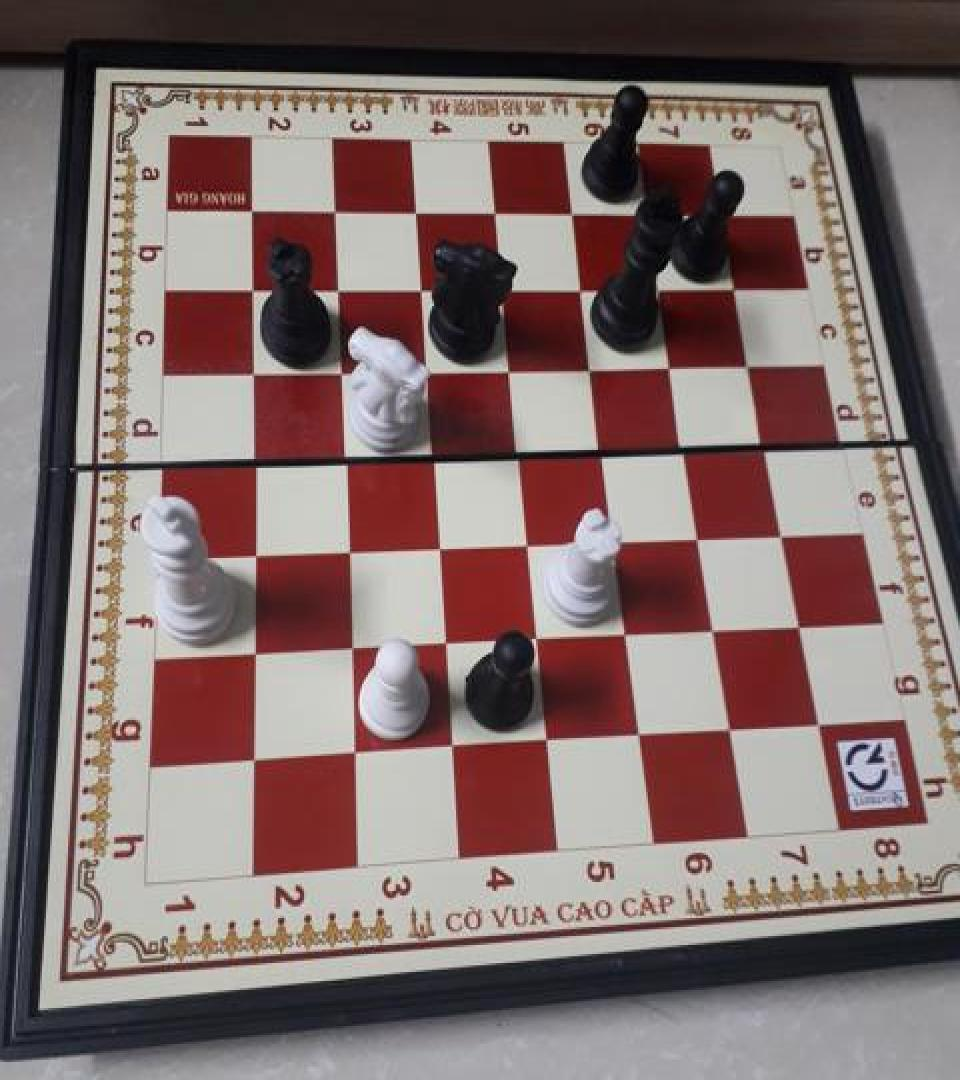xcorner: (696, 608, 728, 645), (518, 617, 550, 654), (336, 732, 368, 769), (398, 196, 430, 232), (318, 196, 350, 232), (236, 196, 268, 232), (641, 268, 673, 304), (563, 269, 595, 305), (484, 269, 516, 305), (403, 270, 435, 306), (320, 271, 352, 307), (236, 272, 268, 308), (732, 343, 764, 379), (653, 346, 685, 382), (573, 346, 605, 382), (491, 348, 523, 384), (408, 350, 440, 386), (323, 351, 355, 387), (236, 353, 268, 389), (748, 424, 780, 460), (667, 428, 699, 464), (584, 430, 616, 466), (500, 432, 532, 468), (414, 434, 446, 470), (326, 436, 358, 472), (236, 440, 268, 476), (765, 511, 797, 547), (681, 514, 713, 550), (596, 518, 628, 554), (509, 522, 541, 558), (420, 526, 452, 562), (329, 529, 361, 565), (236, 532, 268, 568), (783, 604, 815, 640), (608, 613, 640, 649), (426, 622, 458, 658), (332, 626, 364, 662), (236, 632, 268, 668), (802, 703, 834, 739), (713, 709, 745, 745), (622, 714, 654, 750), (528, 720, 560, 756), (433, 727, 465, 763), (236, 739, 268, 775), (703, 195, 735, 230), (629, 195, 661, 230), (553, 195, 585, 230), (476, 195, 508, 230), (717, 267, 749, 302)
